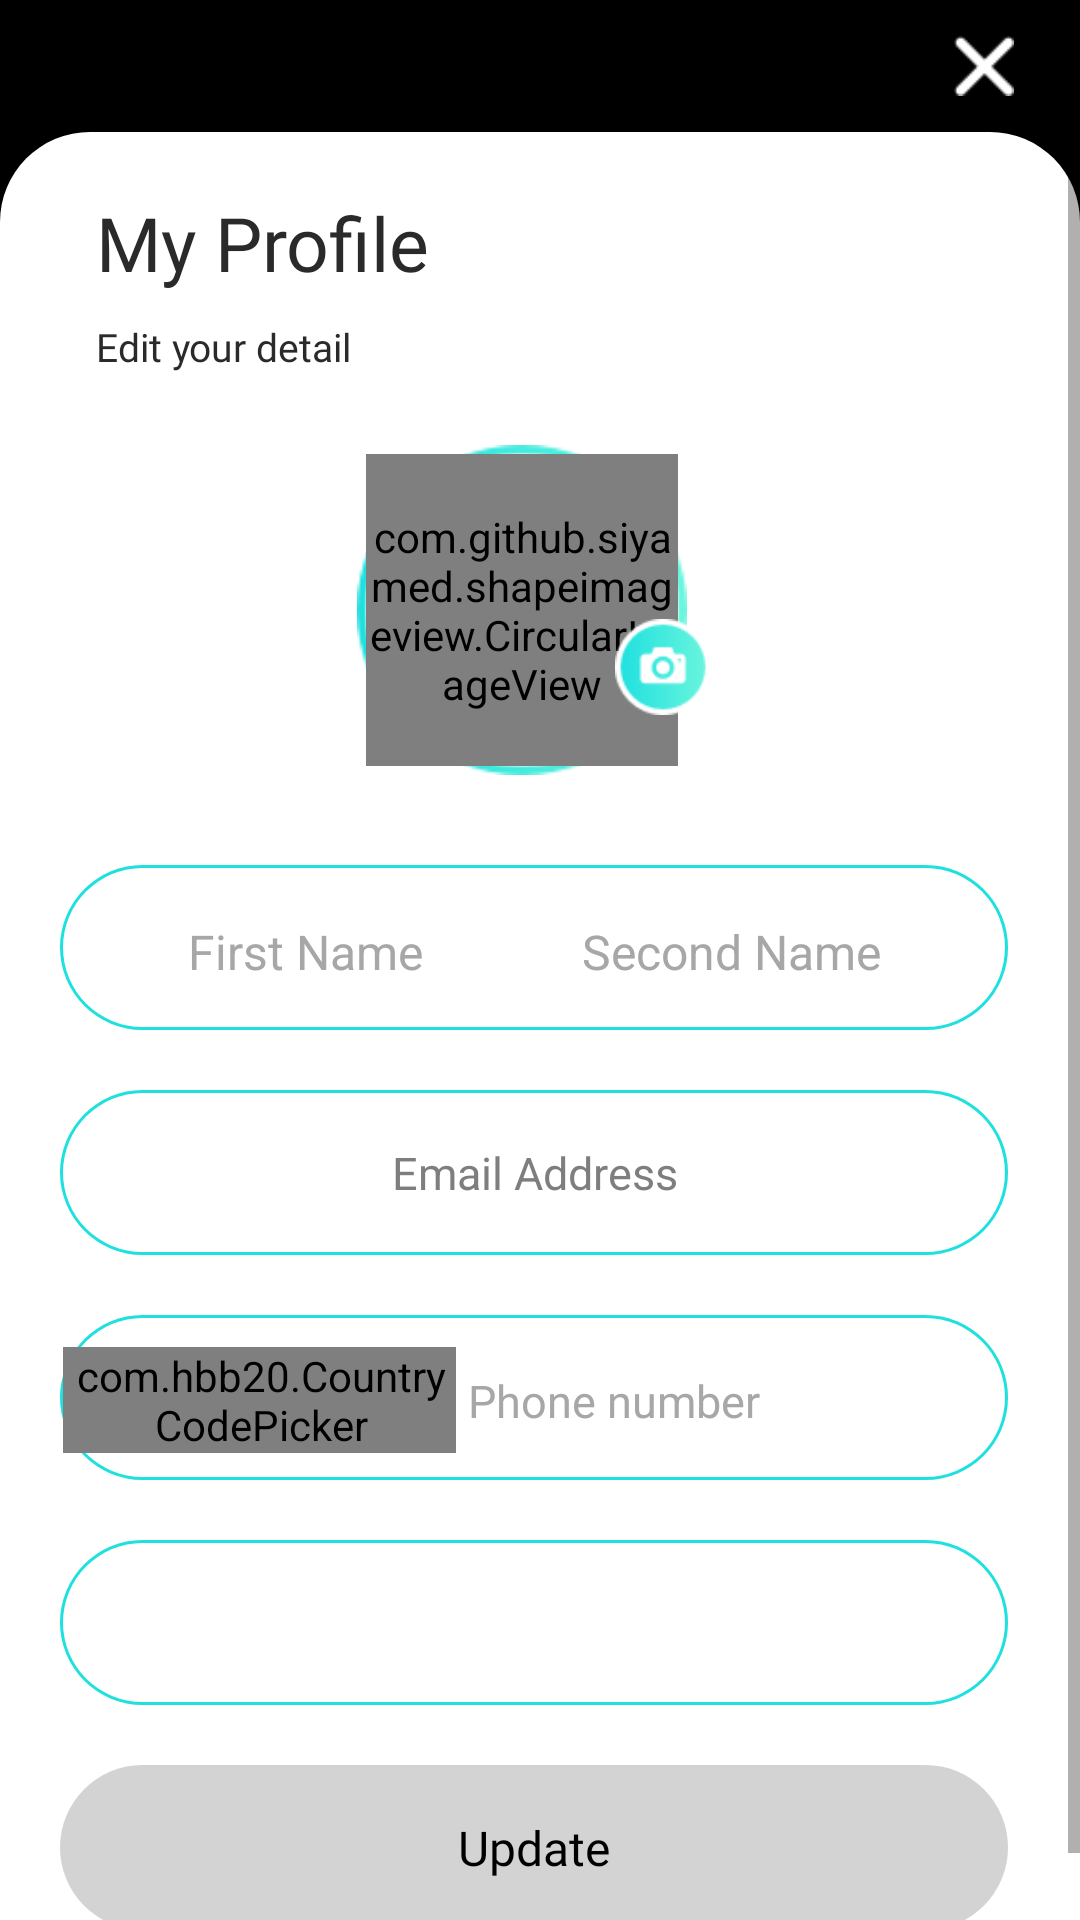

Icon click points for this 1080 × 1920 phone screenshot, format [x,y]:
camera: [663,667]
close: [984,66]
